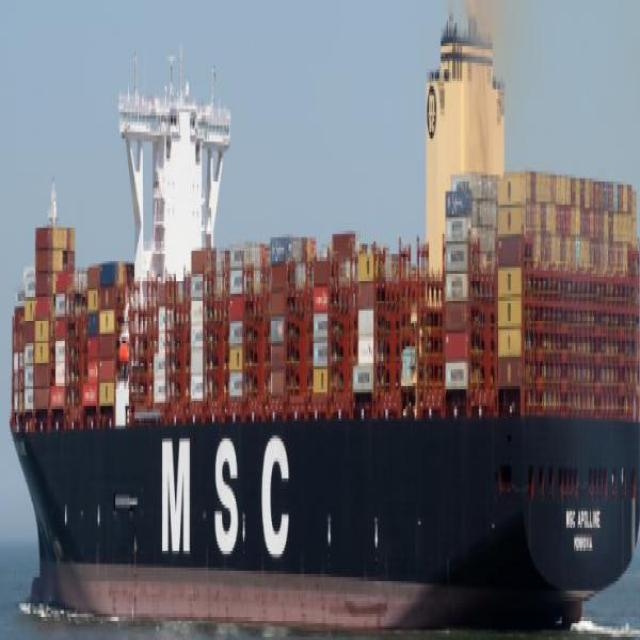Container Ship: (11, 17, 638, 632)
